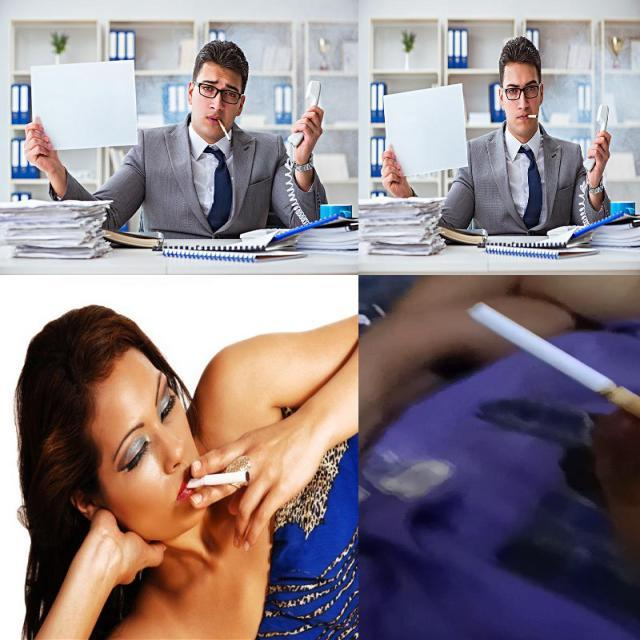smoking: (470, 300, 640, 420), (186, 469, 250, 486), (217, 118, 232, 142), (524, 108, 538, 122)
